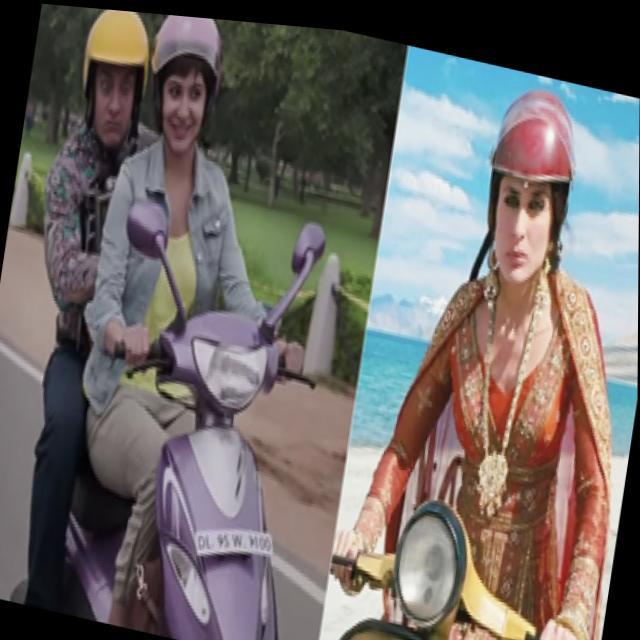Helmet: (480, 87, 578, 285), (63, 6, 160, 155), (144, 8, 224, 162)
